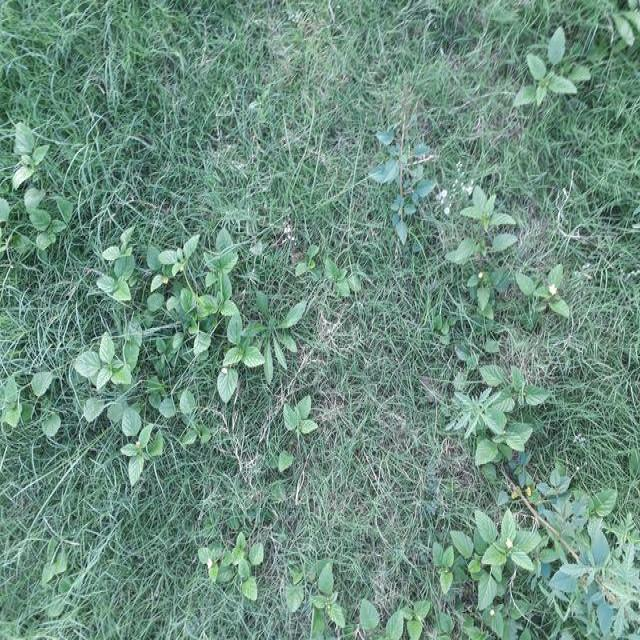weed: (483, 491, 640, 640), (148, 240, 278, 402), (456, 183, 554, 332), (66, 314, 159, 461), (292, 563, 456, 640), (439, 364, 526, 476), (360, 138, 427, 257), (467, 522, 552, 611), (0, 127, 49, 248), (70, 239, 147, 316), (186, 525, 250, 608), (514, 36, 575, 116), (294, 245, 358, 312), (267, 395, 304, 484)
